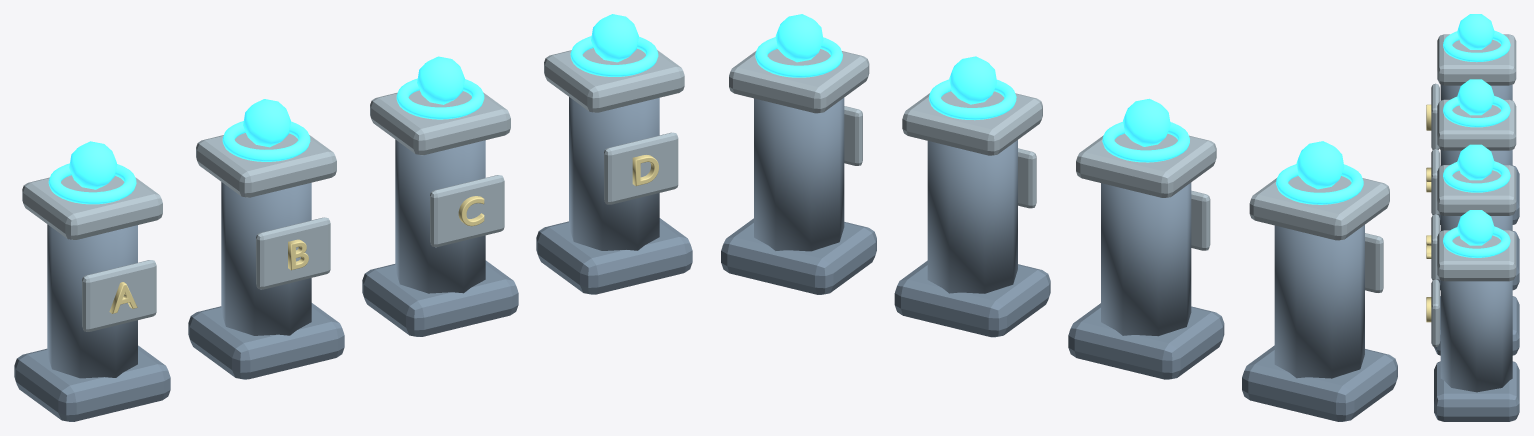
Rendered from brainbite_answer_pillars.glb.
The picture shows the model from 3 angles, left to right: view 1: azimuth 30°, elevation 25°; view 2: azimuth 150°, elevation 25°; view 3: azimuth 270°, elevation 25°; orthographic projection. The views are drawn at different scales.
Parts seen in each view (by area): view 1: Pillar_01_Shaft, Pillar_04_Shaft, Pillar_02_Shaft, Pillar_03_Shaft, Pillar_02_Base, Pillar_03_Base, Pillar_04_Base, Pillar_01_Base, Pillar_02_Top, Pillar_03_Top, Pillar_01_Top, Pillar_04_Top (+12 smaller); view 2: Pillar_01_Shaft, Pillar_03_Shaft, Pillar_04_Shaft, Pillar_02_Shaft, Pillar_03_Base, Pillar_02_Base, Pillar_01_Base, Pillar_04_Base, Pillar_04_Top, Pillar_01_Top, Pillar_02_Top, Pillar_03_Top (+12 smaller); view 3: Pillar_04_Shaft, Pillar_04_Base, Pillar_04_Top, Pillar_01_Top, Pillar_02_Top, Pillar_03_Top, Pillar_02_Gem, Pillar_03_Gem, Pillar_01_Gem, Pillar_04_Gem, Pillar_01_Ring, Pillar_04_Ring (+16 smaller).
Boxes of the visible parts, x1,y1,x2,y2 form: Pillar_01_Shaft: (47,224,137,378); Pillar_04_Shaft: (569,97,659,250); Pillar_02_Shaft: (221,182,311,335); Pillar_03_Shaft: (395,139,485,293); Pillar_02_Base: (188,303,344,379); Pillar_03_Base: (362,260,518,336); Pillar_04_Base: (536,218,692,294); Pillar_01_Base: (14,345,170,421); Pillar_02_Top: (196,133,336,197); Pillar_03_Top: (370,90,510,155); Pillar_01_Top: (22,175,162,239); Pillar_04_Top: (544,48,684,112); Pillar_01_Shaft: (1274,225,1364,378); Pillar_03_Shaft: (927,140,1017,293); Pillar_04_Shaft: (754,98,844,251); Pillar_02_Shaft: (1101,182,1191,336); Pillar_03_Base: (894,260,1050,337); Pillar_02_Base: (1068,303,1224,379); Pillar_01_Base: (1242,345,1397,421); Pillar_04_Base: (721,218,876,294); Pillar_04_Top: (729,49,869,113); Pillar_01_Top: (1249,176,1389,240); Pillar_02_Top: (1076,133,1216,197); Pillar_03_Top: (902,91,1042,155); Pillar_04_Shaft: (1440,280,1512,392); Pillar_04_Base: (1434,361,1519,421); Pillar_04_Top: (1437,230,1516,281); Pillar_01_Top: (1437,34,1516,85); Pillar_02_Top: (1437,99,1516,150); Pillar_03_Top: (1437,165,1516,215); Pillar_02_Gem: (1457,79,1494,115); Pillar_03_Gem: (1457,144,1494,180); Pillar_01_Gem: (1457,14,1494,49); Pillar_04_Gem: (1457,210,1494,245); Pillar_01_Ring: (1443,30,1510,62); Pillar_04_Ring: (1443,226,1510,257).
Bounding box in the file's own units: 6.55 × 2.5 × 1.09.
